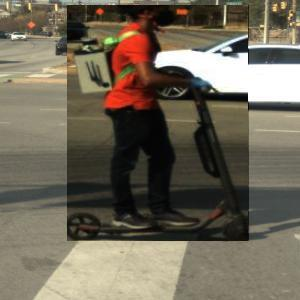with scooter: (68, 5, 250, 241)
